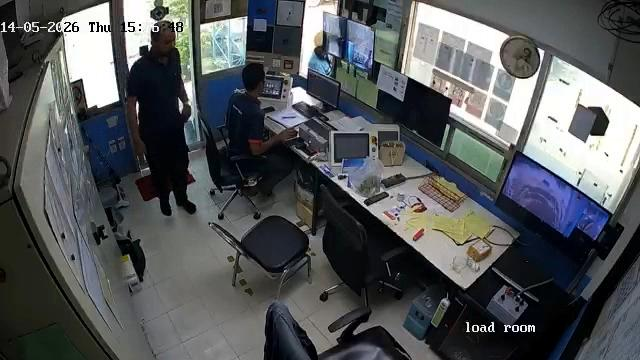Head: (149, 21, 178, 51), (241, 63, 267, 91)
People: (126, 21, 199, 221), (223, 60, 295, 201)
Phone: (262, 106, 275, 114)
